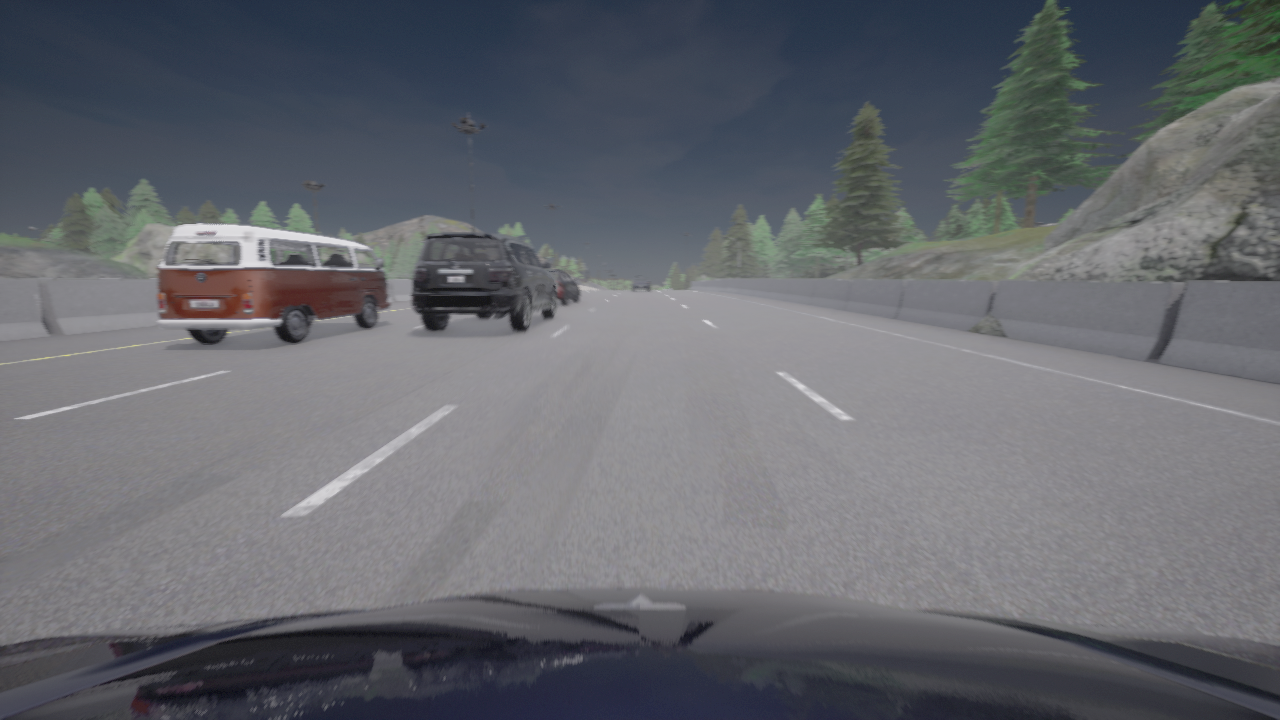cyclist: (0, 588, 1279, 719), (157, 224, 389, 343), (412, 233, 556, 331), (546, 270, 579, 305), (632, 276, 649, 290)
